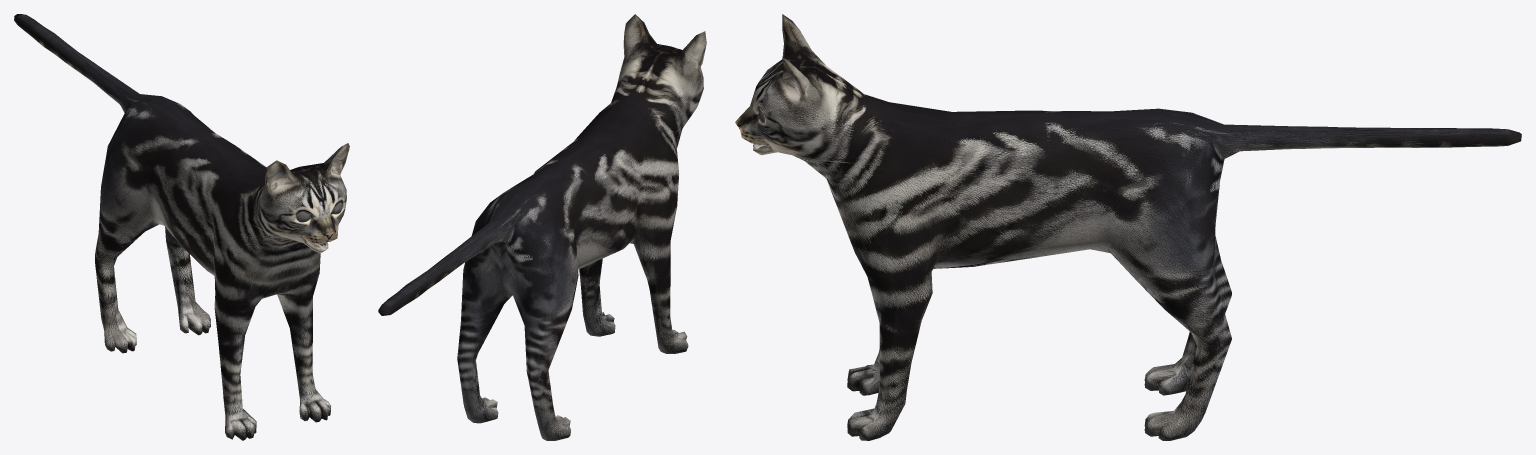
3 renders of one model, left to right at view 1: azimuth 30°, elevation 25°; view 2: azimuth 150°, elevation 25°; view 3: azimuth 270°, elevation 25°, orthographic. The views are drawn at different scales.
Parts seen in each view (by area): view 1: Mesh_0; view 2: Mesh_0; view 3: Mesh_0.
Part boxes in pixels (<box>): Mesh_0: <box>14,14,349,440</box>; Mesh_0: <box>378,14,706,440</box>; Mesh_0: <box>735,14,1521,440</box>.
Bounding box in the file's own units: 39.05 × 105 × 200.
Materials: 1 (1 with a texture image).
